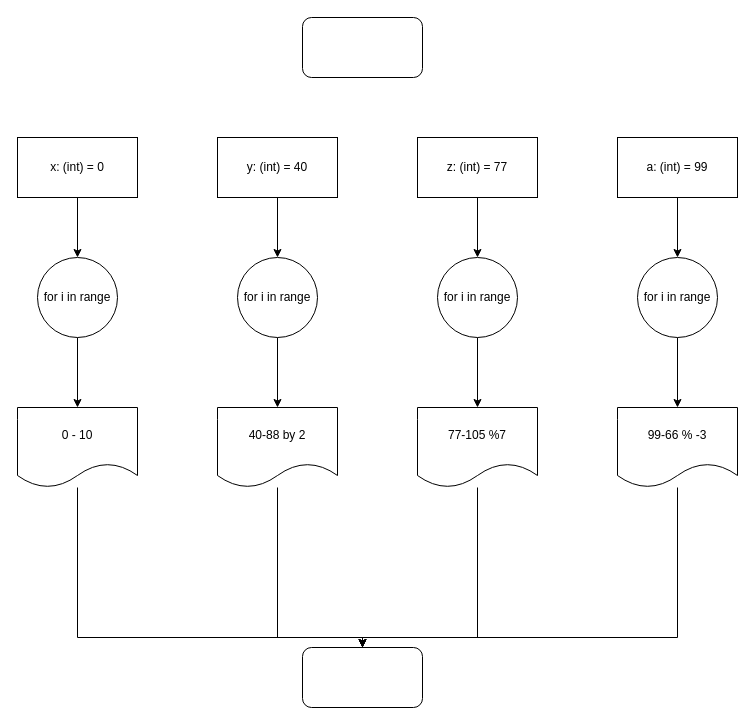
This 755x725 diagram has some shape labels left out. The centre of each missing label's shape, as x and y in pixels:
End: point 362,677
Start: point 362,47
